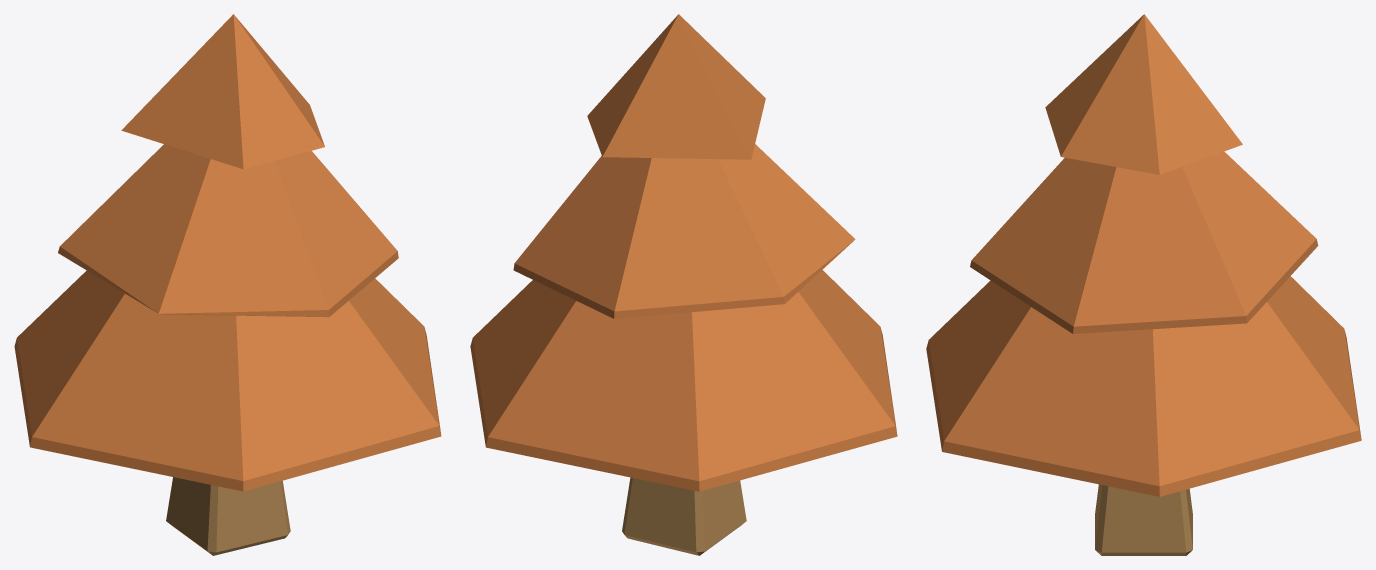
File: grand_arbre_04.glb
3 views of the same model, side by side, from view 1: azimuth 30°, elevation 25°; view 2: azimuth 150°, elevation 25°; view 3: azimuth 270°, elevation 25° (orthographic).
Visible parts, largest first — view 1: Cone.002, Cone.001, Cone, Tronc.003; view 2: Cone.002, Cone.001, Cone, Tronc.003; view 3: Cone.002, Cone.001, Cone, Tronc.003.
Part boxes in pixels (x1=…): Cone.002: x1=14, y1=270, x2=441, y2=491; Cone.001: x1=58, y1=144, x2=398, y2=317; Cone: x1=121, y1=14, x2=324, y2=169; Tronc.003: x1=166, y1=477, x2=290, y2=555; Cone.002: x1=470, y1=270, x2=897, y2=491; Cone.001: x1=513, y1=144, x2=855, y2=318; Cone: x1=587, y1=14, x2=765, y2=159; Tronc.003: x1=622, y1=477, x2=746, y2=555; Cone.002: x1=926, y1=276, x2=1361, y2=496; Cone.001: x1=970, y1=151, x2=1318, y2=333; Cone: x1=1045, y1=14, x2=1242, y2=174; Tronc.003: x1=1095, y1=484, x2=1192, y2=555.
Bounding box in the file's own units: 7.24 × 8.67 × 6.5.
